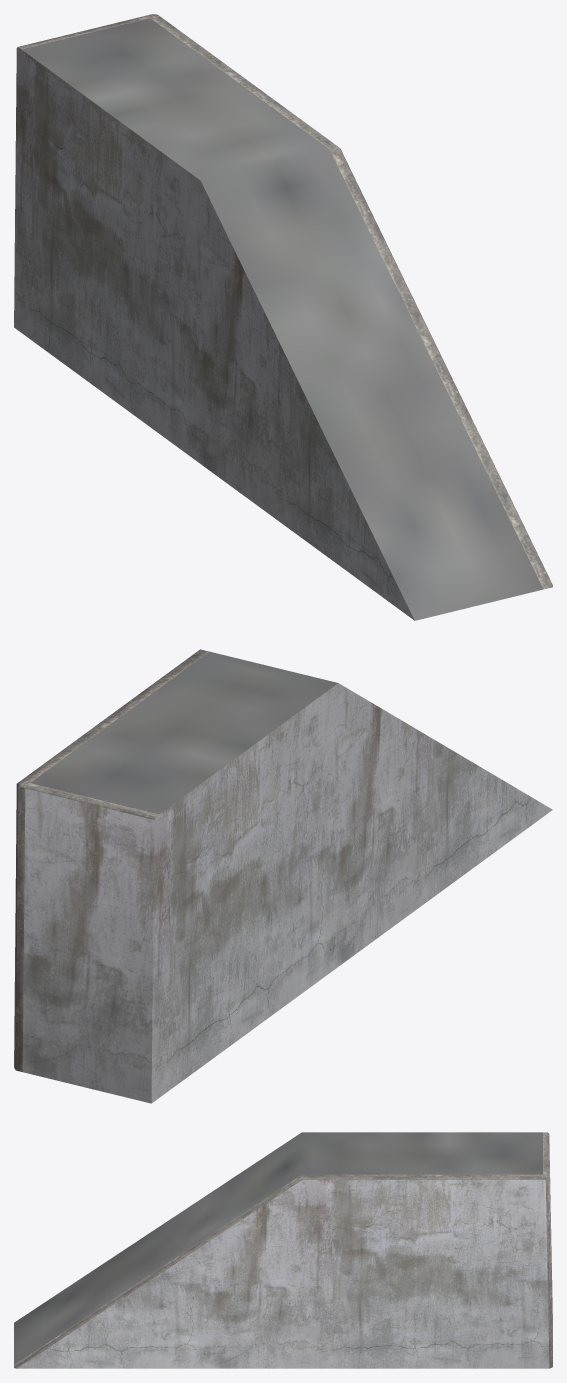
Rendered from JpHouseJ_StoneWall_slope13l.fbx.
3 views of the same model, one above another, from view 1: azimuth 30°, elevation 25°; view 2: azimuth 150°, elevation 25°; view 3: azimuth 270°, elevation 25° (orthographic). The views are drawn at different scales.
Visible parts, largest first — view 1: JpHouseJ_StoneWall_slope13l; view 2: JpHouseJ_StoneWall_slope13l; view 3: JpHouseJ_StoneWall_slope13l.
Part boxes in pixels (box(x1,y1,x2,y2)): JpHouseJ_StoneWall_slope13l: box(14, 14, 552, 620); JpHouseJ_StoneWall_slope13l: box(14, 649, 552, 1103); JpHouseJ_StoneWall_slope13l: box(14, 1132, 552, 1368).
Size of the model in its own units: 2.11 by 4.08 by 10.46.
